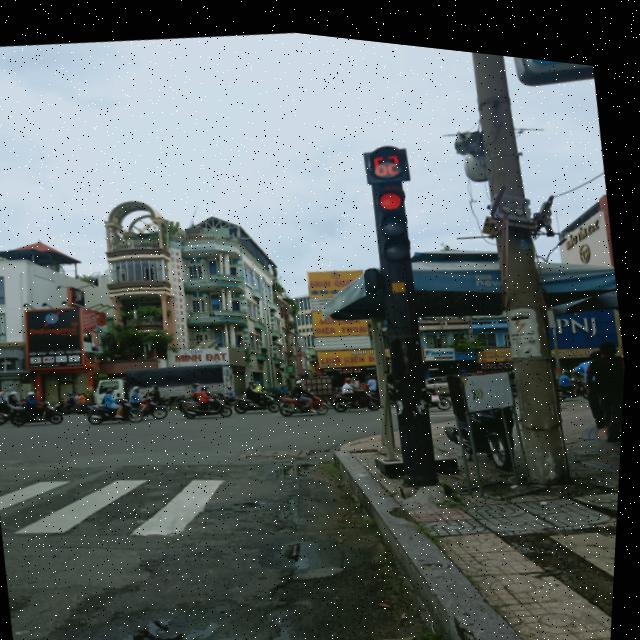Red: (371, 169, 416, 260)
